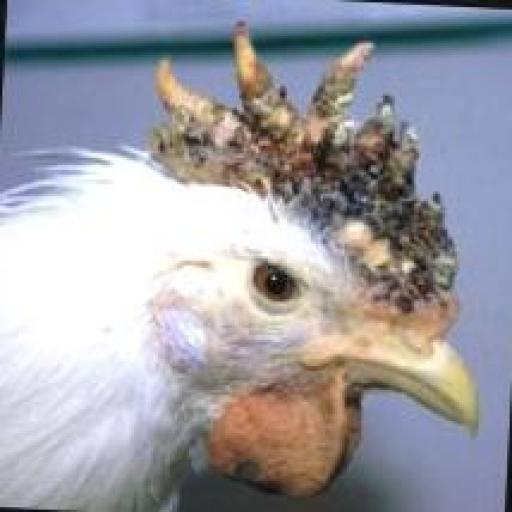disease: (138, 8, 464, 326)
